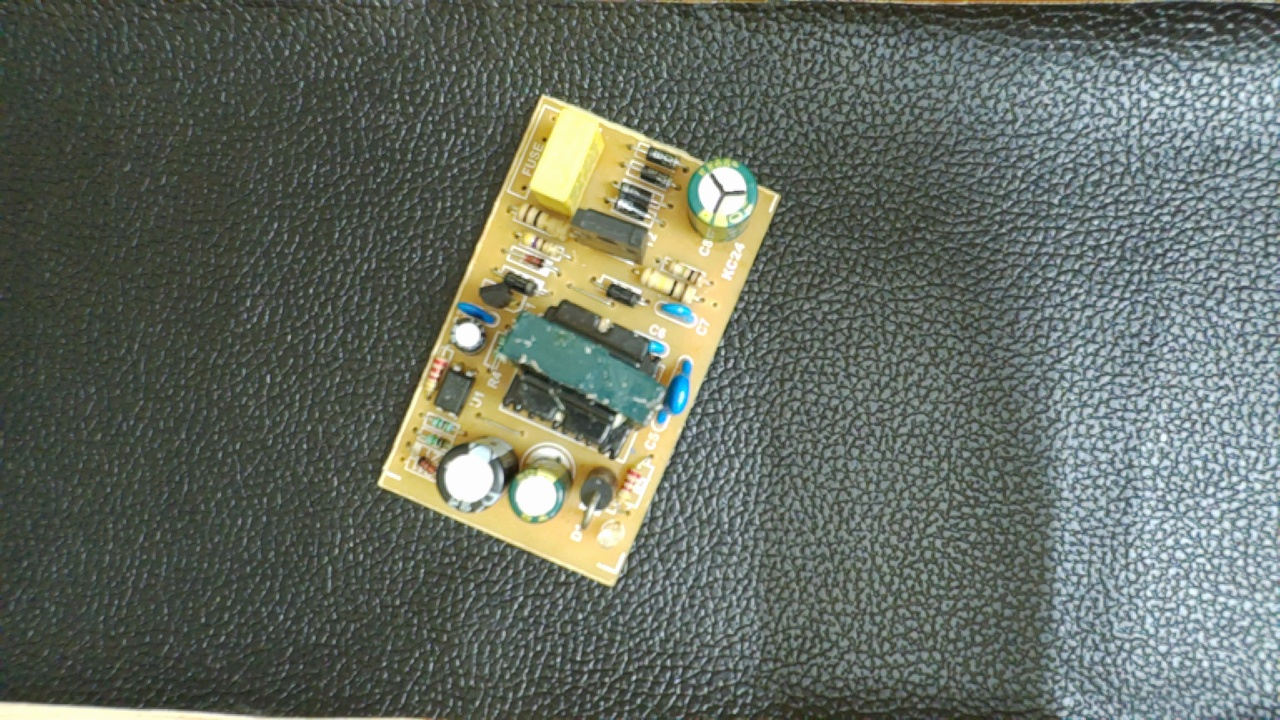hv_capacitor: (689, 155, 758, 243)
mov: (659, 353, 695, 429)
optocoupler: (434, 359, 477, 420)
